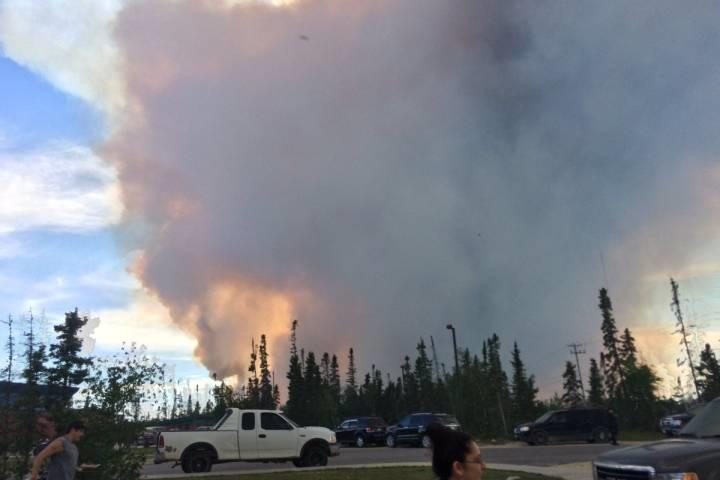smoke: (203, 49, 459, 284)
